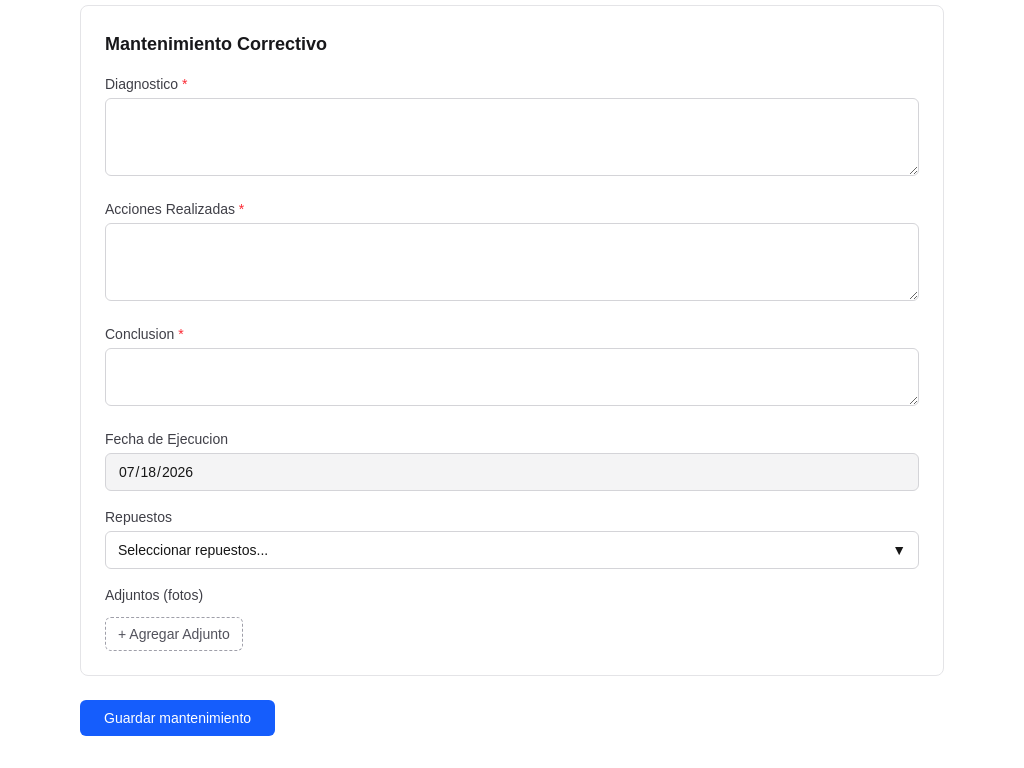
Test: IncidenciaDetailPage › validates required fields before submitting mantenimiento
(page scrolled)
Click the button "Guardar mantenimiento" at (178, 718), box [80,700,275,736]
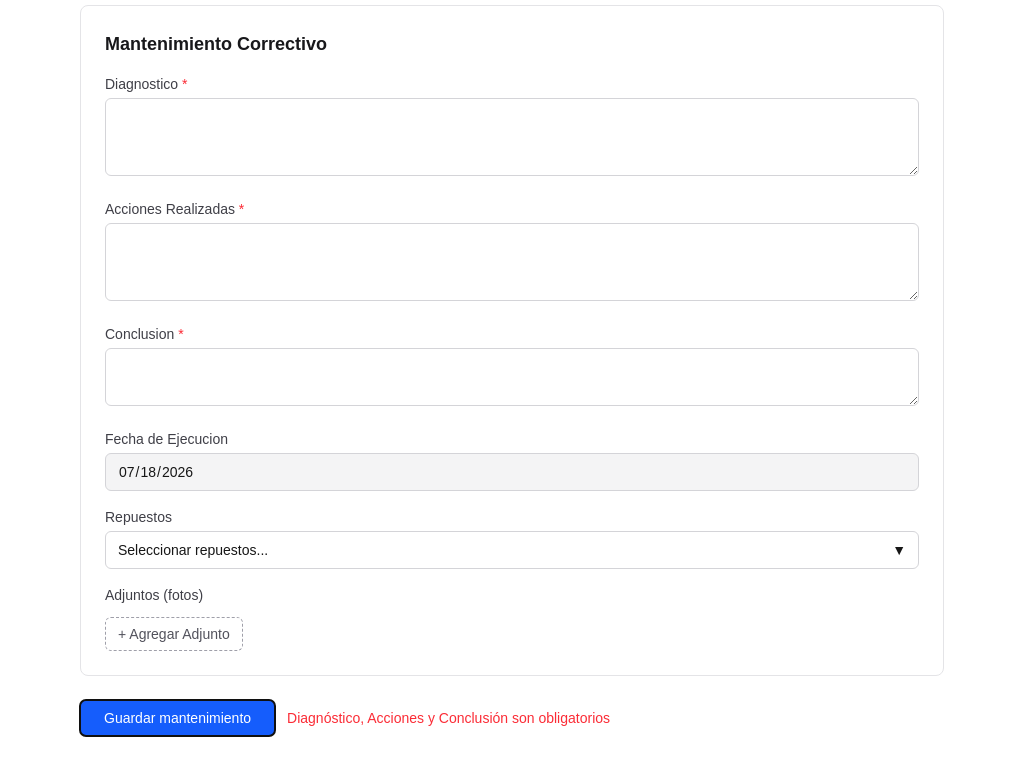
Now the text "Diagnóstico, Acciones y Conclusión son obligatorios" is shown, box [287,708,610,728]
